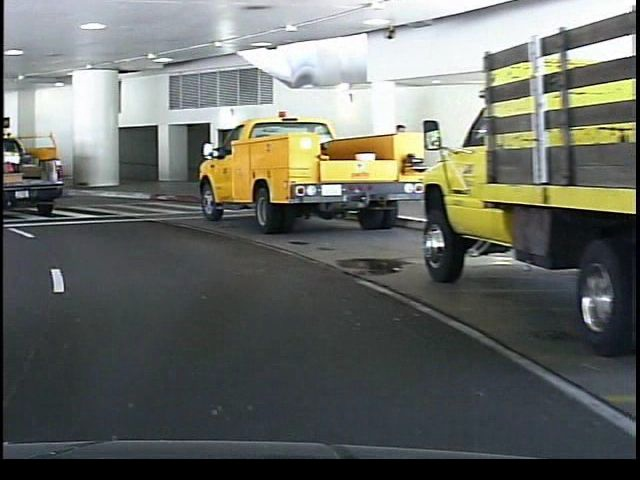person: (386, 118, 414, 207)
